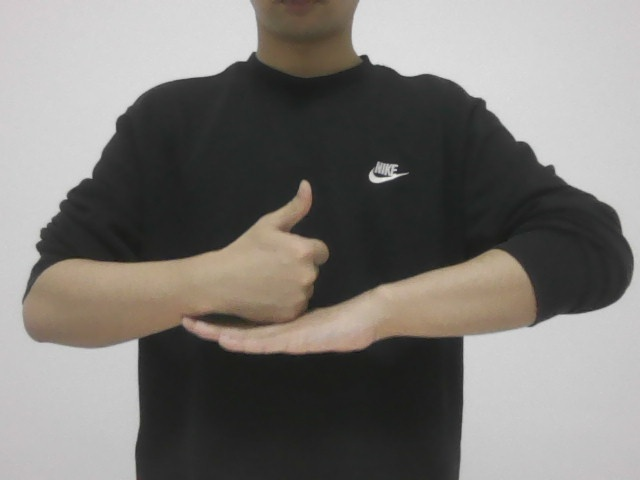new: (177, 175, 383, 362)
